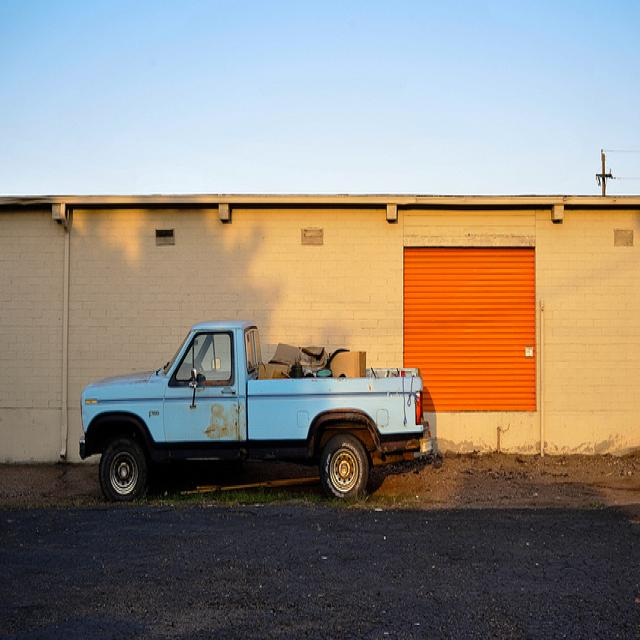Vehicle: (81, 322, 429, 506)
